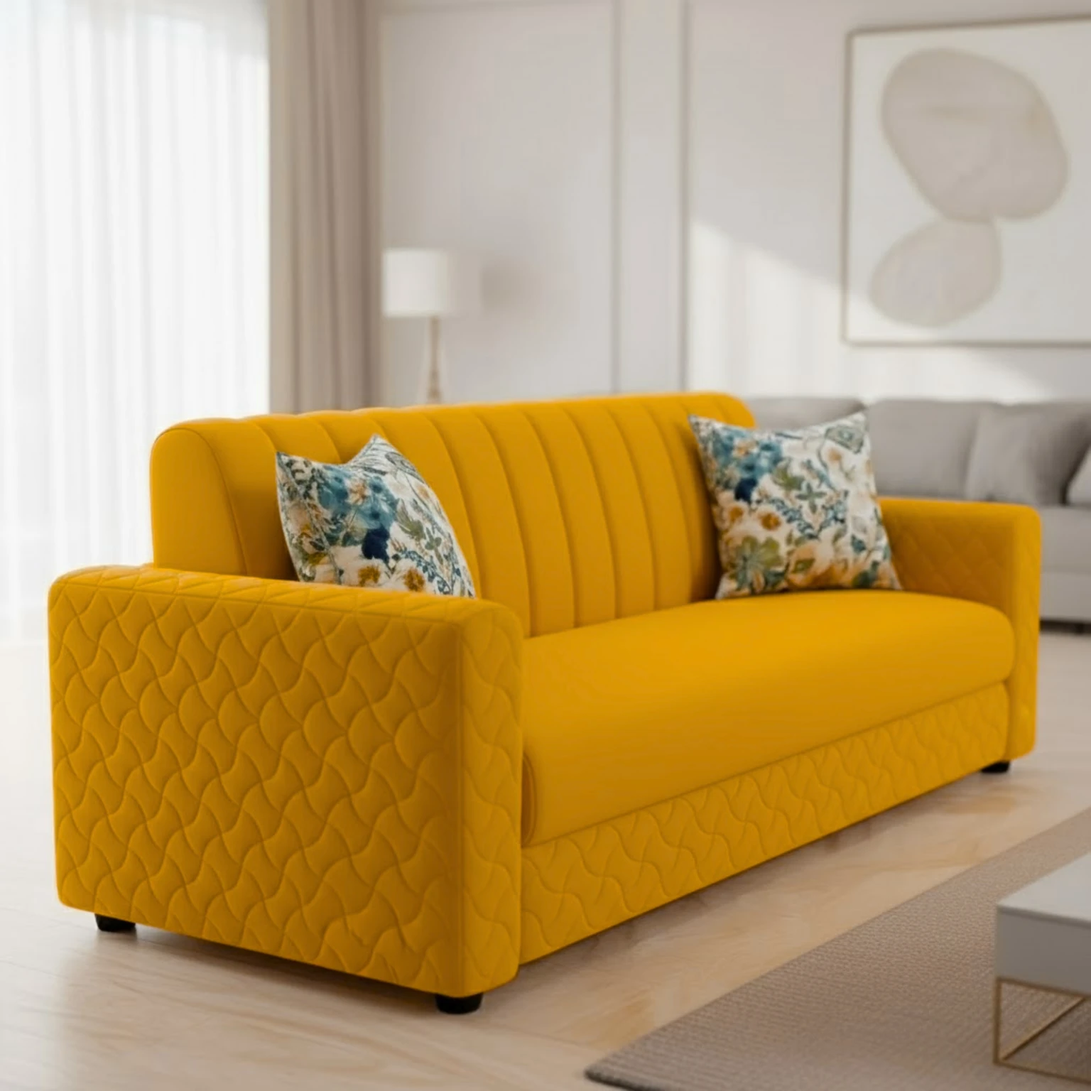3seatersofa: (49, 393, 1040, 997)
backrest: (151, 393, 750, 633)
base: (521, 685, 1008, 962), (911, 514, 986, 592)
leftarmrest: (882, 497, 1041, 759)
leg: (435, 993, 483, 1014), (95, 913, 135, 933), (981, 761, 1009, 774)
pillow: (690, 413, 899, 598), (277, 435, 474, 595)
rightarmrest: (50, 568, 519, 998)
seat: (522, 592, 1013, 845)
